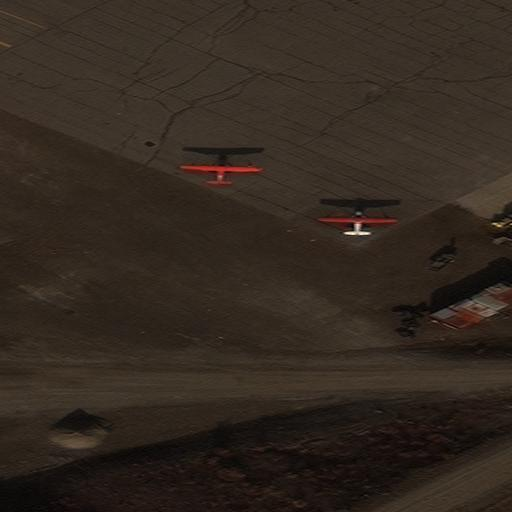Small Civil Transport: (316, 204, 397, 235), (179, 157, 259, 185)
